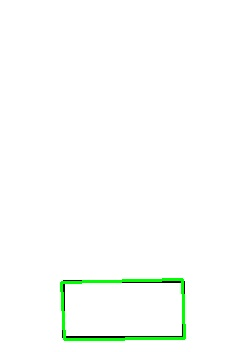line_segment: (61, 279, 186, 340)
